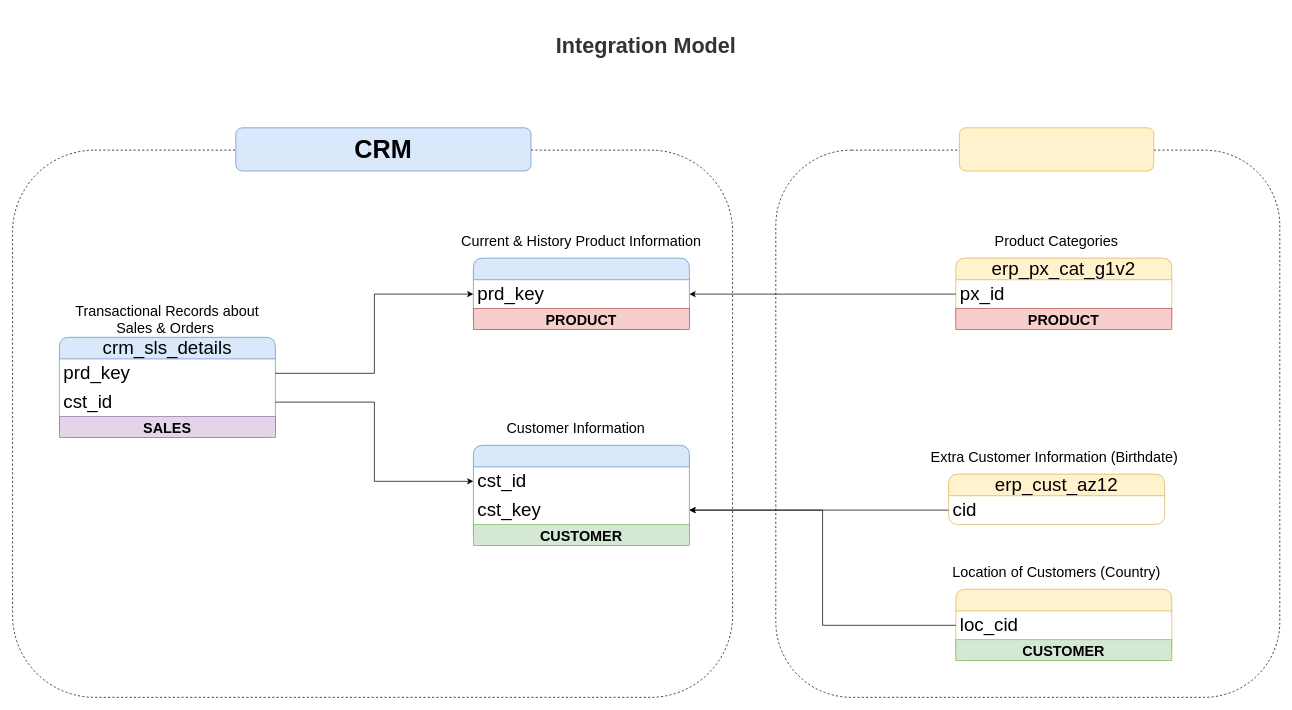
Image size: 1292x710. Some labels were removed from this diagram. The box of each missing label's shape, as (x1, y1, x2, y2) in pixels:
crm_cust_info: (473, 445, 689, 545)
crm_prd_info: (473, 257, 689, 329)
ERP: (959, 127, 1154, 171)
erp_loc_a101: (955, 589, 1172, 661)
